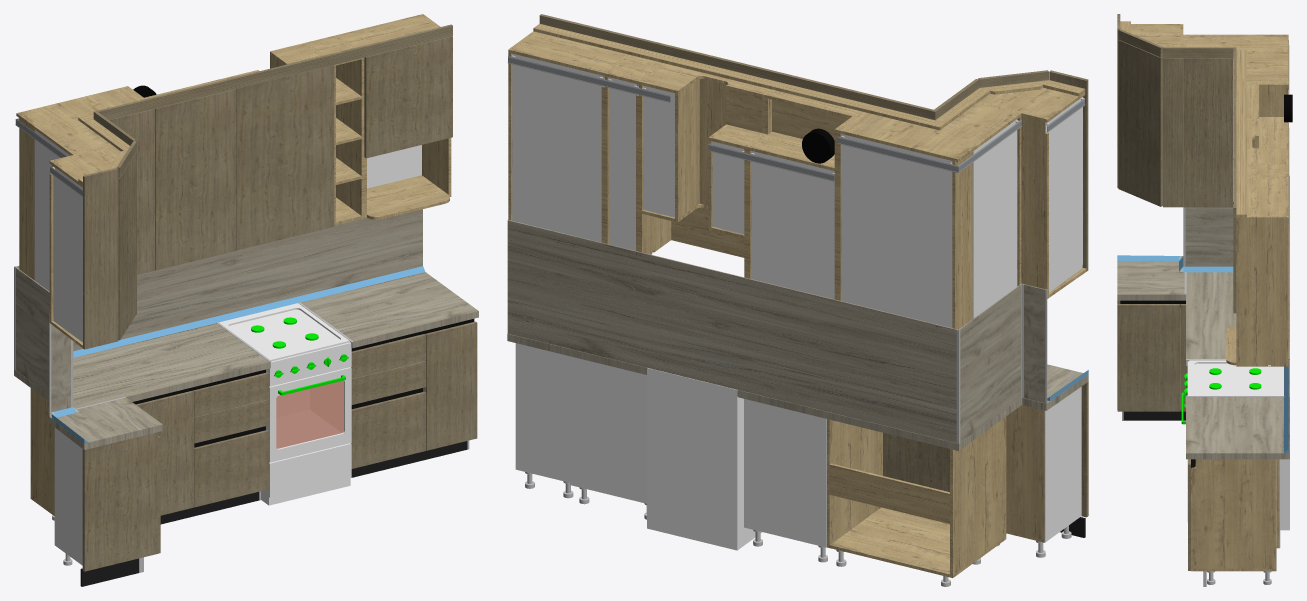
3 views of the same model, side by side, from view 1: azimuth 30°, elevation 25°; view 2: azimuth 150°, elevation 25°; view 3: azimuth 270°, elevation 25° (orthographic). The views are drawn at different scales.
Visible parts, largest first — view 1: node_0042, node_0132, node_0141, node_0043, node_0029, node_0151, node_0045, node_0118, node_0086, node_0060, node_0099, node_0115 (+35 smaller); view 2: node_0042, node_0107, node_0148, node_0070, node_0092, node_0136, node_0053, node_0106, node_0041, node_0081, node_0038, node_0115 (+44 smaller); view 3: node_0079, node_0145, node_0102, node_0030, node_0121, node_0045, node_0043, node_0120, node_0041, node_0109, node_0044, node_0068 (+27 smaller).
Part boxes in pixels (box(x1,y1,x2,y2)): node_0042: box(16, 209, 422, 351); node_0132: box(236, 65, 334, 250); node_0141: box(155, 89, 236, 270); node_0043: box(14, 323, 270, 408); node_0029: box(82, 432, 157, 571); node_0151: box(364, 36, 452, 158); node_0045: box(300, 272, 478, 348); node_0118: box(83, 167, 118, 349); node_0086: box(425, 321, 477, 450); node_0060: box(351, 391, 426, 468); node_0099: box(194, 430, 269, 507); node_0115: box(53, 166, 82, 342); node_0042: box(507, 220, 957, 442); node_0107: box(842, 134, 952, 327); node_0148: box(512, 53, 604, 242); node_0070: box(649, 370, 735, 549); node_0092: box(744, 399, 826, 547); node_0136: box(751, 151, 834, 299); node_0053: box(570, 356, 646, 503); node_0106: box(972, 119, 1017, 318); node_0041: box(958, 284, 1021, 442); node_0081: box(515, 343, 569, 482); node_0038: box(950, 417, 1006, 574); node_0115: box(1046, 97, 1082, 292); node_0079: box(1191, 459, 1276, 568); node_0145: box(1236, 216, 1288, 366); node_0102: box(1183, 58, 1232, 207); node_0030: box(1117, 304, 1180, 411); node_0121: box(1118, 40, 1162, 206); node_0045: box(1186, 397, 1289, 459); node_0043: box(1186, 270, 1289, 359); node_0120: box(1163, 58, 1183, 207); node_0041: box(1185, 204, 1233, 266); node_0109: box(1186, 34, 1288, 82); node_0044: box(1117, 261, 1185, 300); node_0068: box(1194, 363, 1276, 394).
Size of the model in its own units: 2.64 by 2.41 by 1.01.
Materials: 22 (5 with a texture image).
